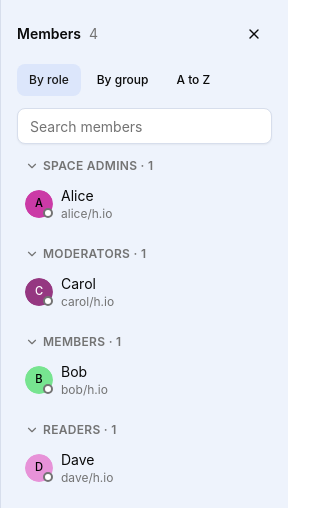
Scenario: MembersPanel, inline from lg › filters by the search, keeping the total, and says when nothing matches
expect the text "Alice" is shown: met, box left=61, top=187, right=94, bottom=204
In the search field labelled "Search members": (144, 126) left=17, top=108, right=272, bottom=144, type "CAR"
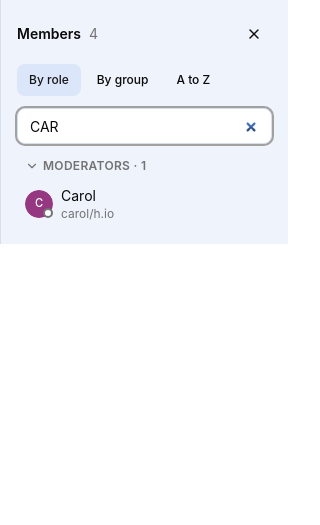
expect the text "Carol" is shown: met, box left=61, top=187, right=96, bottom=204
expect the button "Alice" is gone: met
In the search field: (144, 126) left=17, top=108, right=272, bottom=144, type "zzz"
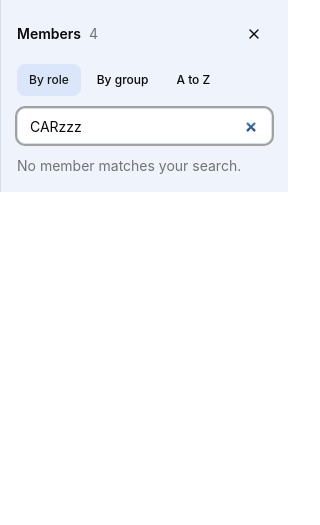
expect the text "No member matches your search." is shown: met, box left=17, top=156, right=272, bottom=176
